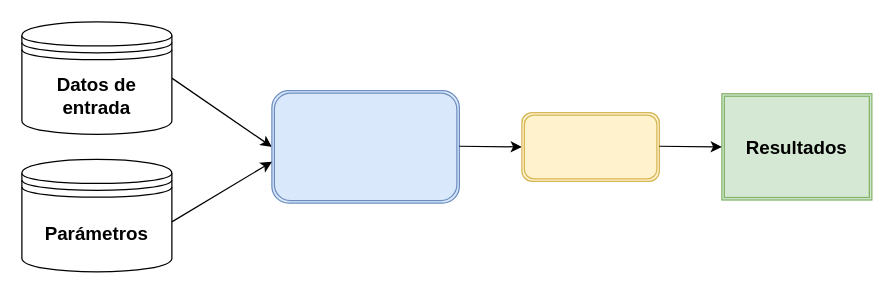
The diagram is 894 pixels wide and 294 high, and some of its shapes have lost their labels. Each missing label, with the centre of its shape:
Modelo de aprendizaje: pixel 365 146
Programa: pixel 590 146
